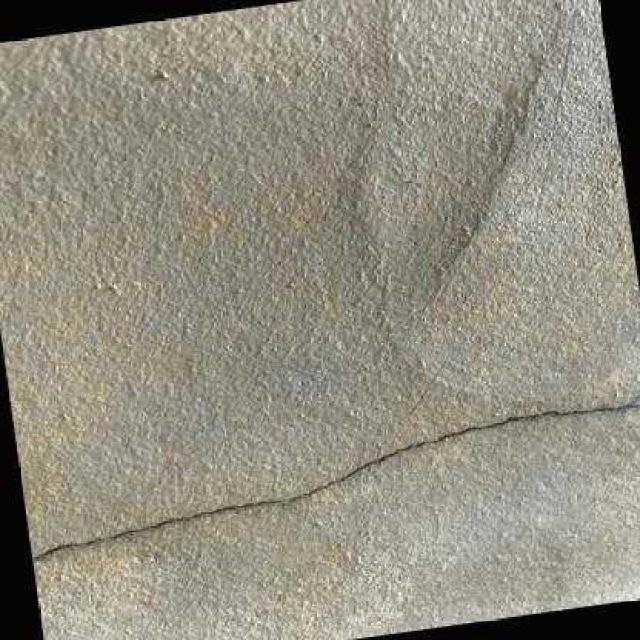D00: (30, 402, 640, 558)
